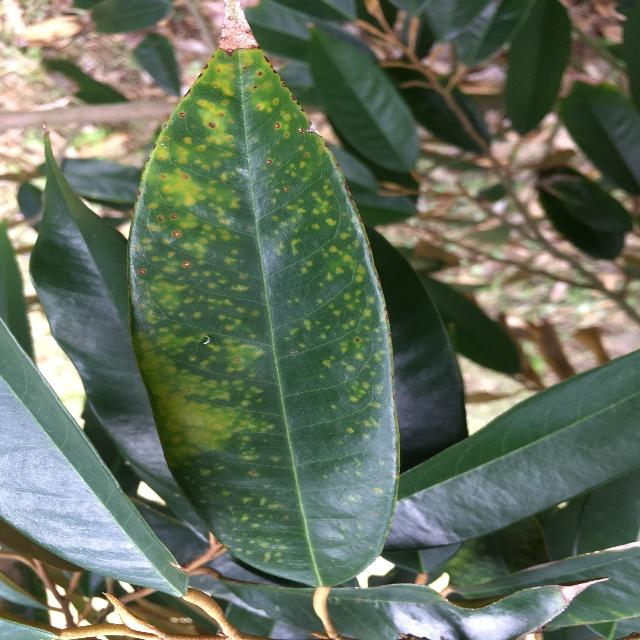Leaf Spot: (115, 23, 407, 591)
